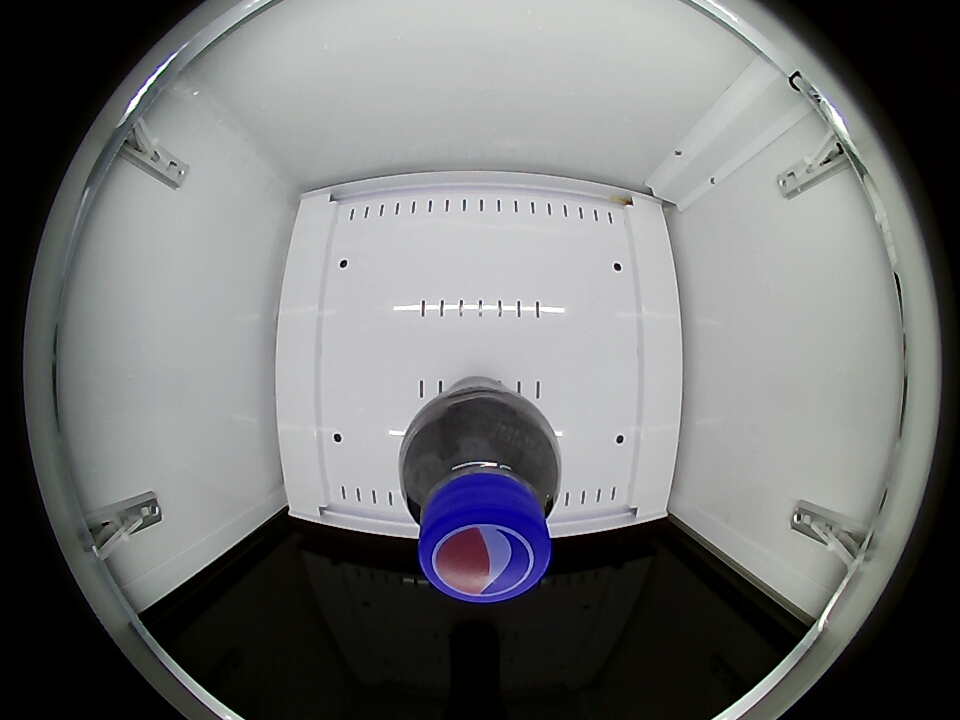baishikele-2: (401, 409, 560, 604)
